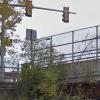Traffic light: (19, 2, 81, 30)
